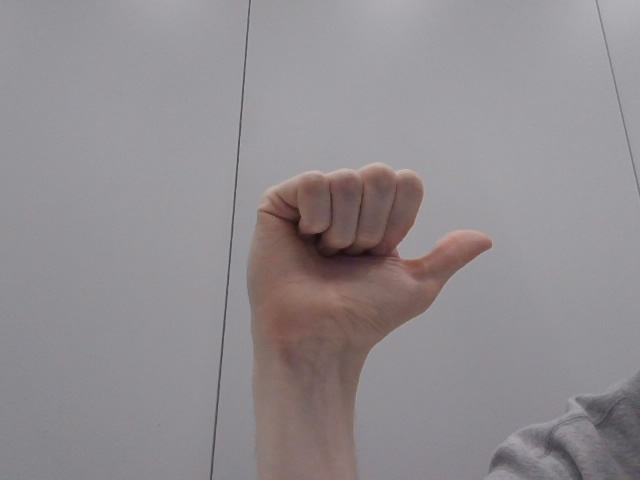left: (229, 155, 504, 373)
